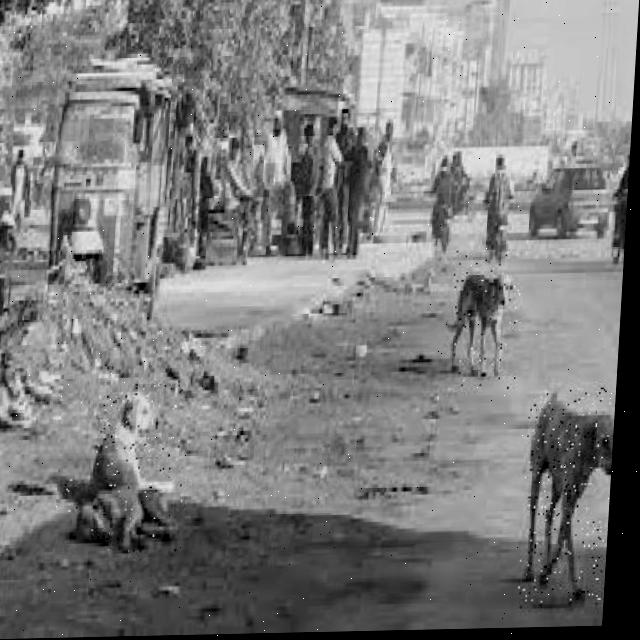Dog: (517, 386, 615, 609), (447, 246, 525, 391), (93, 383, 185, 501), (61, 472, 186, 555)
